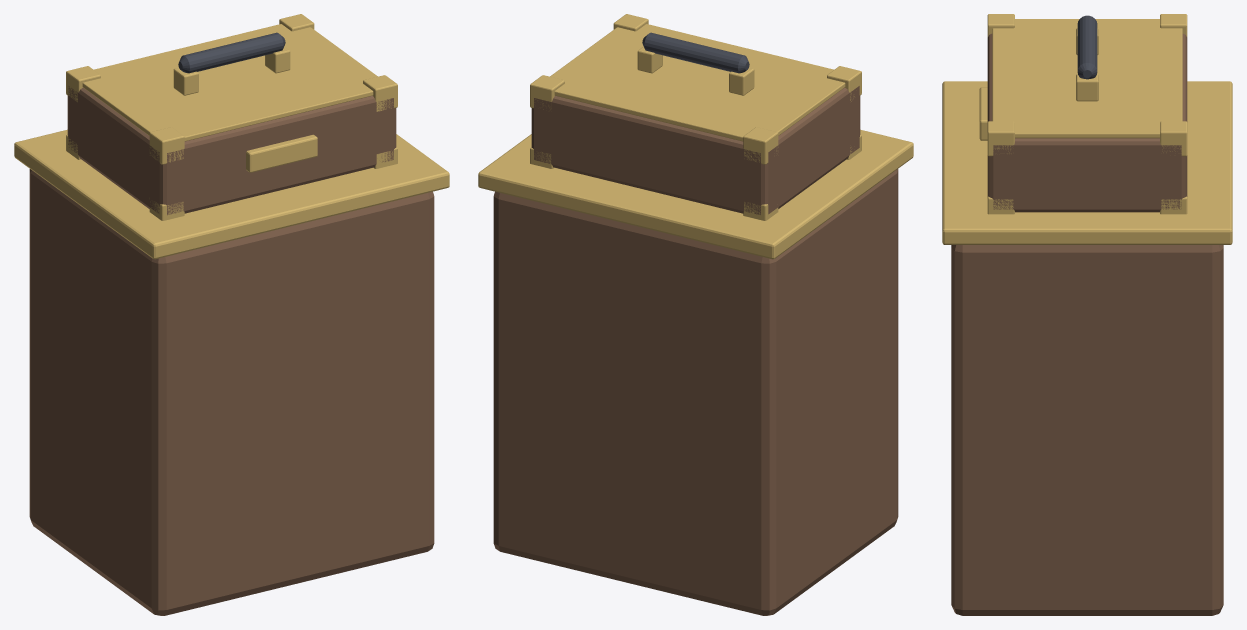
The model's file is briefcase.glb.
3 views of the same model, side by side, from view 1: azimuth 30°, elevation 25°; view 2: azimuth 150°, elevation 25°; view 3: azimuth 270°, elevation 25° (orthographic). The views are drawn at different scales.
Visible parts, largest first — view 1: briefcase wood pedestal, briefcase wood body, briefcase top edge brass trim, briefcase pedestal cap, briefcase wrapped leather handle, briefcase brass clasp, briefcase brass corner ul back, briefcase brass corner ur back, briefcase brass corner ul, briefcase brass handle bracket l; view 2: briefcase wood pedestal, briefcase wood body, briefcase top edge brass trim, briefcase pedestal cap, briefcase wrapped leather handle, briefcase brass corner ul, briefcase brass corner ur, briefcase brass corner ul back, briefcase brass handle bracket l; view 3: briefcase wood pedestal, briefcase pedestal cap, briefcase top edge brass trim, briefcase wood body, briefcase wrapped leather handle, briefcase brass corner ur back, briefcase brass corner ur, briefcase brass handle bracket r, briefcase brass clasp, briefcase brass corner ul, briefcase brass corner ul back, briefcase brass corner lr (+1 smaller).
Part boxes in pixels (x1,y1,x2,y2): briefcase wood pedestal: (29,169,434,615); briefcase wood body: (67,86,396,215); briefcase top edge brass trim: (82,24,377,141); briefcase pedestal cap: (14,129,449,259); briefcase wrapped leather handle: (178,32,285,73); briefcase brass clasp: (246,134,317,172); briefcase brass corner ul back: (149,127,184,164); briefcase brass corner ur back: (363,75,397,111); briefcase brass corner ul: (66,66,100,102); briefcase brass handle bracket l: (173,67,198,95); briefcase wood pedestal: (493,169,898,615); briefcase wood body: (531,86,860,214); briefcase top edge brass trim: (550,24,845,141); briefcase pedestal cap: (478,129,913,259); briefcase wrapped leather handle: (642,32,749,73); briefcase brass corner ul: (743,127,778,164); briefcase brass corner ur: (530,75,564,109); briefcase brass corner ul back: (827,66,861,101); briefcase brass handle bracket l: (729,67,754,95); briefcase wood pedestal: (951,245,1223,615); briefcase pedestal cap: (942,81,1232,244); briefcase top edge brass trim: (992,19,1182,138); briefcase wood body: (987,33,1187,212); briefcase wrapped leather handle: (1077,15,1097,79); briefcase brass corner ur back: (987,121,1014,156); briefcase brass corner ur: (1160,121,1187,156); briefcase brass handle bracket r: (1076,74,1098,101); briefcase brass clasp: (979,87,987,140); briefcase brass corner ul: (1160,14,1187,36); briefcase brass corner ul back: (987,14,1014,36); briefcase brass corner lr: (1160,196,1187,214).
Bounding box in the file's own units: 0.78 × 1.24 × 0.64.
